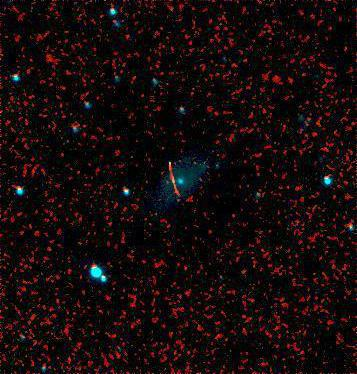star: (166, 165, 196, 195)
